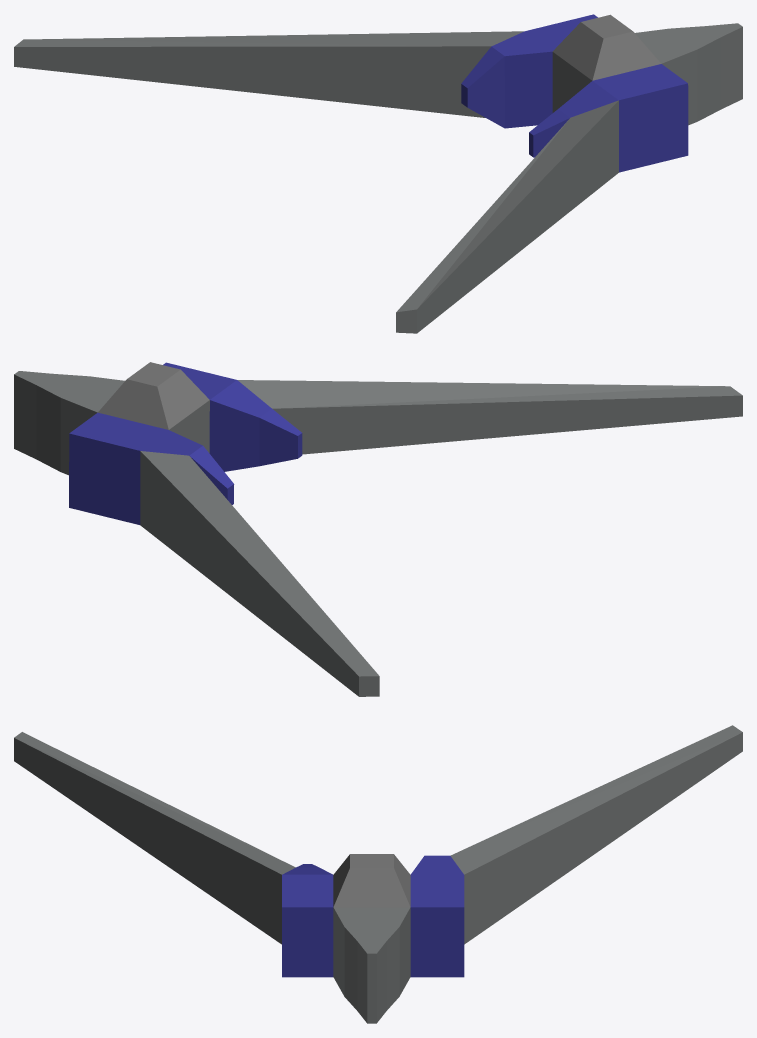
Rendered from StarShip.fbx.
The picture shows the model from 3 angles, top to bottom: view 1: azimuth 30°, elevation 25°; view 2: azimuth 150°, elevation 25°; view 3: azimuth 270°, elevation 25°; orthographic projection. The views are drawn at different scales.
Visible parts, largest first — view 1: pCube1; view 2: pCube1; view 3: pCube1.
Boxes of the visible parts, bbox=[...] form: pCube1: bbox=[14, 14, 742, 333]; pCube1: bbox=[14, 362, 742, 696]; pCube1: bbox=[14, 725, 742, 1023].
Bounding box in the file's own units: 7.81 × 1.43 × 9.46.
